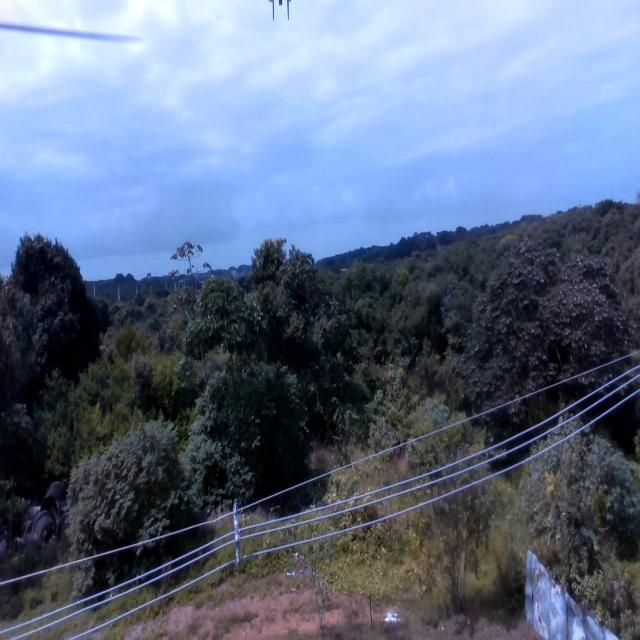-uav-: (266, 0, 291, 27)
